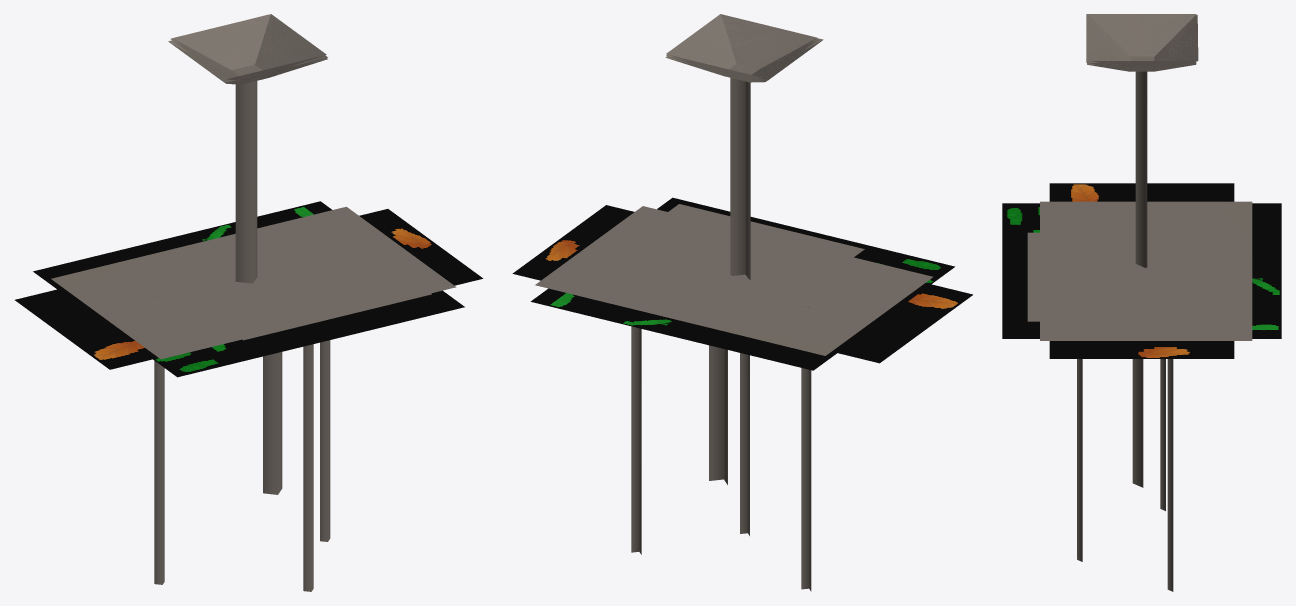
Rendered from Plantas_02.fbx.
3 renders of one model, left to right at view 1: azimuth 30°, elevation 25°; view 2: azimuth 150°, elevation 25°; view 3: azimuth 270°, elevation 25°, orthographic. The views are drawn at different scales.
Visible parts, largest first — view 1: Flor_Aquatica, Flores_Aquaticas, Folhas_Verdes, Folhas_Laranjas, Flor_Amarela, Flor_Vermelha, Flor_Rosa; view 2: Flor_Aquatica, Flores_Aquaticas, Folhas_Verdes, Folhas_Laranjas, Flor_Rosa, Flor_Vermelha, Flor_Amarela, Flor_Azul; view 3: Flor_Aquatica, Flores_Aquaticas, Folhas_Verdes, Flor_Vermelha, Folhas_Laranjas, Flor_Rosa, Flor_Azul.
Part boxes in pixels (<box>): Flor_Aquatica: <box>136,216,431,494</box>; Flores_Aquaticas: <box>51,206,456,591</box>; Folhas_Verdes: <box>33,201,464,377</box>; Folhas_Laranjas: <box>15,209,482,369</box>; Flor_Amarela: <box>170,14,323,283</box>; Flor_Vermelha: <box>172,14,326,282</box>; Flor_Rosa: <box>168,40,327,281</box>; Flor_Aquatica: <box>574,204,864,484</box>; Flores_Aquaticas: <box>535,206,932,591</box>; Folhas_Verdes: <box>530,197,954,370</box>; Folhas_Laranjas: <box>512,205,972,363</box>; Flor_Rosa: <box>666,38,823,280</box>; Flor_Vermelha: <box>666,14,817,77</box>; Flor_Amarela: <box>666,16,818,274</box>; Flor_Azul: <box>665,56,766,279</box>; Flor_Aquatica: <box>1027,232,1234,487</box>; Flores_Aquaticas: <box>1040,201,1252,591</box>; Folhas_Verdes: <box>1002,203,1281,338</box>; Flor_Vermelha: <box>1088,14,1196,267</box>; Folhas_Laranjas: <box>1049,183,1234,358</box>; Flor_Rosa: <box>1086,14,1195,266</box>; Flor_Azul: <box>1087,61,1196,267</box>.
Bounding box in the file's own units: 62.5 × 84.28 × 41.91.
